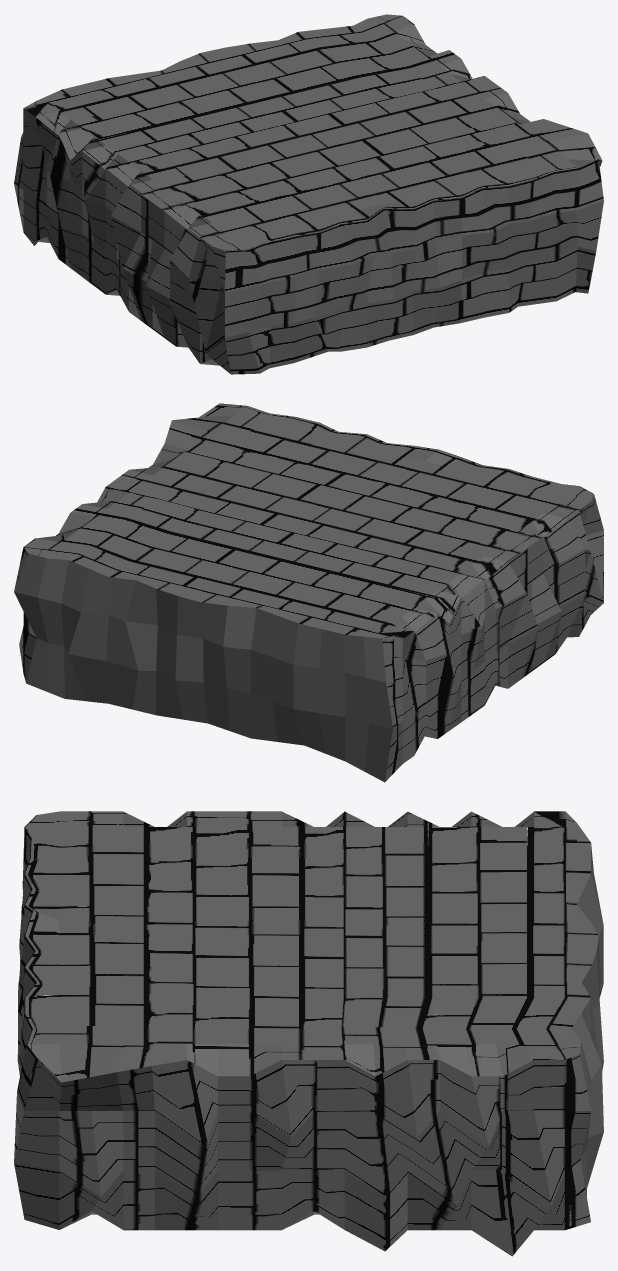
File: textured_platform.fbx
3 renders of one model, top to bottom at view 1: azimuth 30°, elevation 25°; view 2: azimuth 150°, elevation 25°; view 3: azimuth 270°, elevation 25°, orthographic. The views are drawn at different scales.
Visible parts, largest first — view 1: Cube.001; view 2: Cube.001; view 3: Cube.001.
Boxes of the visible parts, box(x1,y1,x2,y2) form: Cube.001: box(14, 14, 603, 374); Cube.001: box(14, 403, 603, 782); Cube.001: box(14, 811, 603, 1256).
Size of the model in its own units: 261 by 89.58 by 239.
